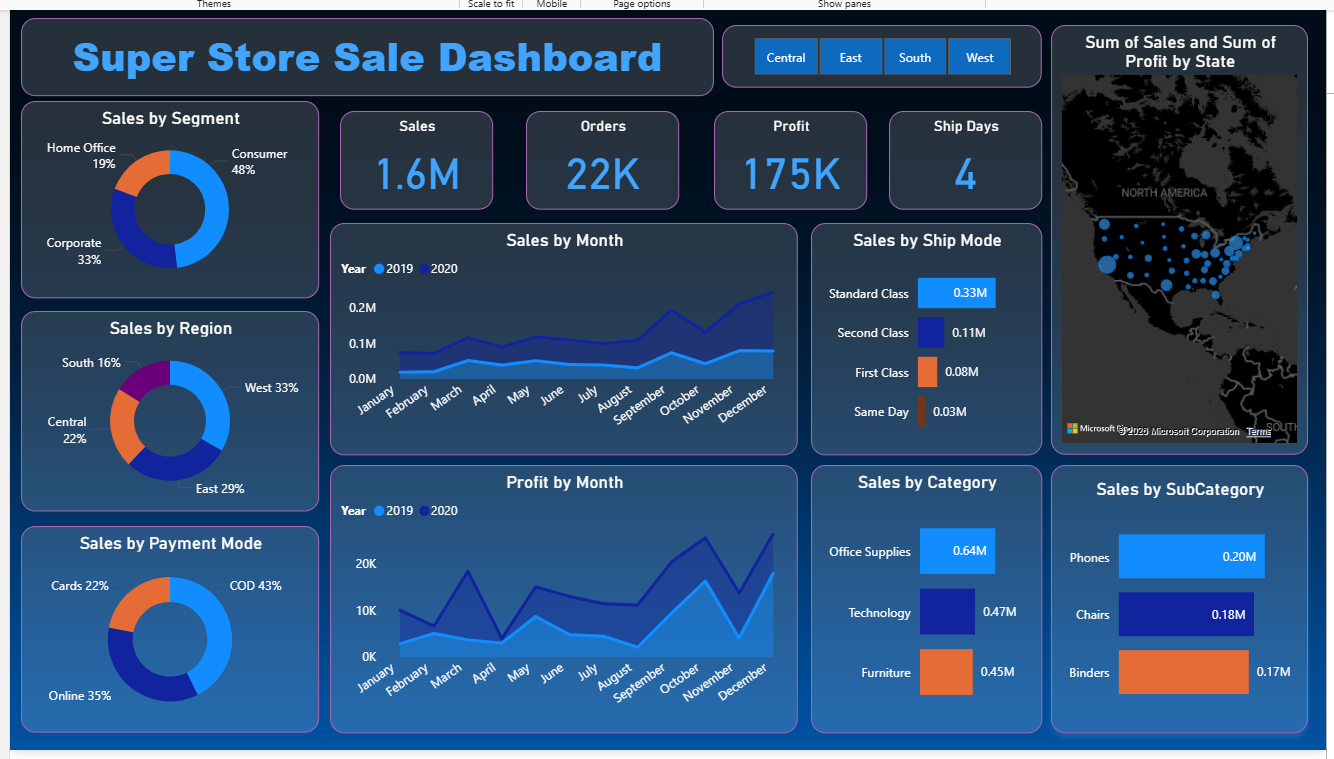

What the dashboard file says about the page in this screenshot:
{"tool":"powerbi","page":{"name":"Page 1","canvas":[1280,720],"ordinal":0},"visuals":[{"type":"clusteredBarChart","title":"Sales by Category","fields":{"Category":["SuperStore_Sales_Dataset.Category"],"Y":["Sum(SuperStore_Sales_Dataset.Sales)"]},"box":[779.1,442.6,224.7,260.7],"z":0},{"type":"clusteredBarChart","title":"Sales by SubCategory","fields":{"Category":["SuperStore_Sales_Dataset.Sub-Category"],"Y":["Sum(SuperStore_Sales_Dataset.Sales)"]},"box":[1012.5,442.6,250,260.7],"z":1000},{"type":"clusteredBarChart","title":"Sales by Ship Mode","fields":{"Category":["SuperStore_Sales_Dataset.Ship Mode"],"Y":["Sum(SuperStore_Sales_Dataset.Sales)"]},"box":[779.1,207.2,224.7,225.7],"z":2000},{"type":"stackedAreaChart","title":"Sales by Month","fields":{"Y":["Sum(SuperStore_Sales_Dataset.Sales)"],"Category":["SuperStore_Sales_Dataset.Order Date.Variation.Date Hierarchy.Month","SuperStore_Sales_Dataset.Order Date.Variation.Date Hierarchy.Day"],"Series":["SuperStore_Sales_Dataset.Order Date.Variation.Date Hierarchy.Year"]},"box":[311.2,207.2,455.2,225.7],"z":3000},{"type":"stackedAreaChart","title":"Profit by Month","fields":{"Category":["SuperStore_Sales_Dataset.Order Date.Variation.Date Hierarchy.Month","SuperStore_Sales_Dataset.Order Date.Variation.Date Hierarchy.Day"],"Series":["SuperStore_Sales_Dataset.Order Date.Variation.Date Hierarchy.Year"],"Y":["Sum(SuperStore_Sales_Dataset.Profit)"]},"box":[311.2,442.6,455.2,260.7],"z":4000},{"type":"map","fields":{"Category":["SuperStore_Sales_Dataset.State"],"Size":["Sum(SuperStore_Sales_Dataset.Sales)"]},"box":[1012.5,14.6,250,418.2],"z":5000},{"type":"donutChart","title":"Sales by Segment","fields":{"Category":["SuperStore_Sales_Dataset.Segment"],"Y":["Sum(SuperStore_Sales_Dataset.Sales)"]},"box":[10.7,88.5,289.8,191.6],"z":6000},{"type":"donutChart","title":"Sales by Payment Mode","fields":{"Category":["SuperStore_Sales_Dataset.Payment Mode"],"Y":["Sum(SuperStore_Sales_Dataset.Sales)"]},"box":[10.7,501.9,289.8,201.3],"z":7000},{"type":"slicer","fields":{"Values":["SuperStore_Sales_Dataset.Region"]},"box":[692.5,14.6,311.2,61.3],"z":8000},{"type":"textbox","box":[10.7,7.8,674,75.9],"z":9000},{"type":"card","title":"Sales","fields":{"Values":["Sum(SuperStore_Sales_Dataset.Sales)"]},"box":[321,98.2,148.8,96.3],"z":10000},{"type":"card","title":"Orders","fields":{"Values":["Sum(SuperStore_Sales_Dataset.Quantity)"]},"box":[501.9,98.2,148.8,96.3],"z":11000},{"type":"card","title":"Profit","fields":{"Values":["Sum(SuperStore_Sales_Dataset.Profit)"]},"box":[684.7,98.2,148.8,96.3],"z":12000},{"type":"card","title":"Ship Days","fields":{"Values":["Avg(SuperStore_Sales_Dataset.AvgDelivery)"]},"box":[855,98.2,148.8,96.3],"z":13000},{"type":"donutChart","title":"Sales by Region","fields":{"Category":["SuperStore_Sales_Dataset.Region"],"Y":["Sum(SuperStore_Sales_Dataset.Sales)"]},"box":[10.7,292.8,289.8,194.5],"z":14000}]}

Visuals, with their boxes on the page's 1280x720 design canvas (x1, y1, x2, y2). These are canvas units, not pixel positions in the 1334x759 screenshot, which may show the page scaled, cropped or inside an application window:
"Sales by Category" clusteredBarChart: [779, 443, 1004, 703]
"Sales by SubCategory" clusteredBarChart: [1012, 443, 1262, 703]
"Sales by Ship Mode" clusteredBarChart: [779, 207, 1004, 433]
"Sales by Month" stackedAreaChart: [311, 207, 766, 433]
"Profit by Month" stackedAreaChart: [311, 443, 766, 703]
map - SuperStore_Sales_Dataset.State x Sum(SuperStore_Sales_Dataset.Sales): [1012, 15, 1262, 433]
"Sales by Segment" donutChart: [11, 88, 300, 280]
"Sales by Payment Mode" donutChart: [11, 502, 300, 703]
slicer - SuperStore_Sales_Dataset.Region: [692, 15, 1004, 76]
textbox: [11, 8, 685, 84]
"Sales" card: [321, 98, 470, 194]
"Orders" card: [502, 98, 651, 194]
"Profit" card: [685, 98, 834, 194]
"Ship Days" card: [855, 98, 1004, 194]
"Sales by Region" donutChart: [11, 293, 300, 487]
